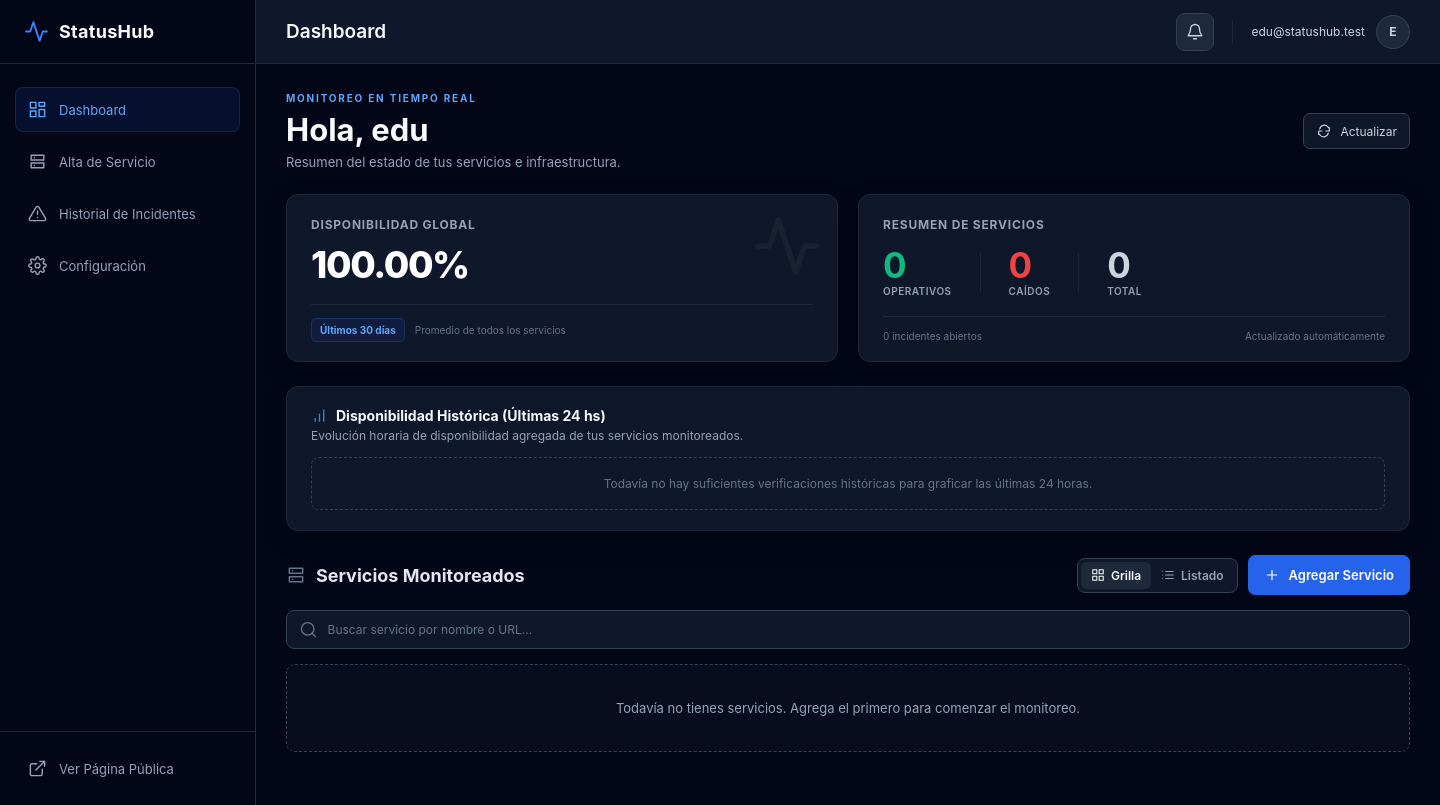
Test: Configuración — Página pública obligatoria, preferencias, cambio de contraseña y baja de cuenta › exige obligatoriamente el nombre de organización al intentar habilitar la página pública
The image size is (1440, 805).
Click the button "Configuración" at (128, 266), box [15, 243, 240, 288]
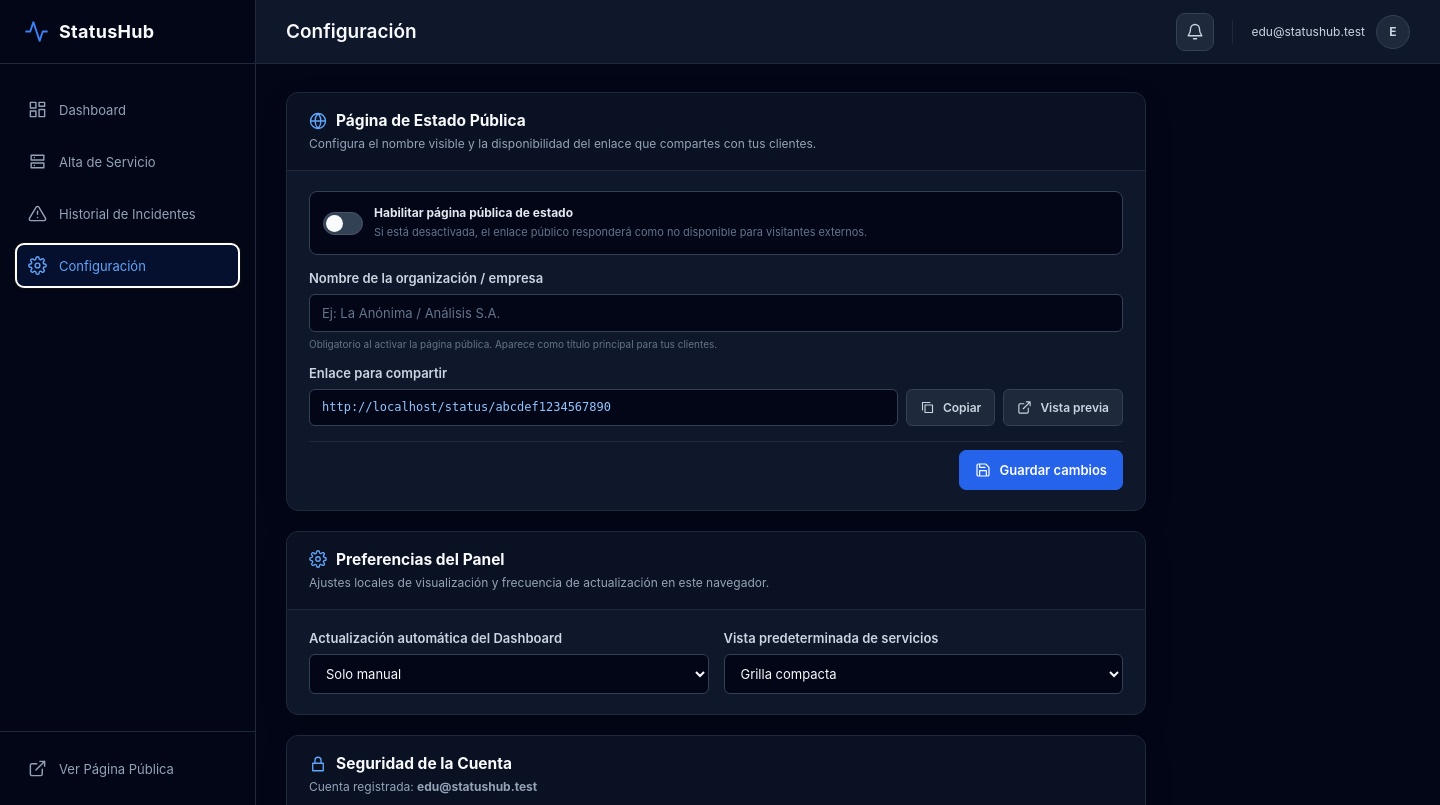
Expected: the heading "Página de Estado Pública" is shown, [309, 111, 526, 130]
Click the checkbox labelled "Habilitar página pública de estado" at (343, 223), box [323, 212, 363, 235]
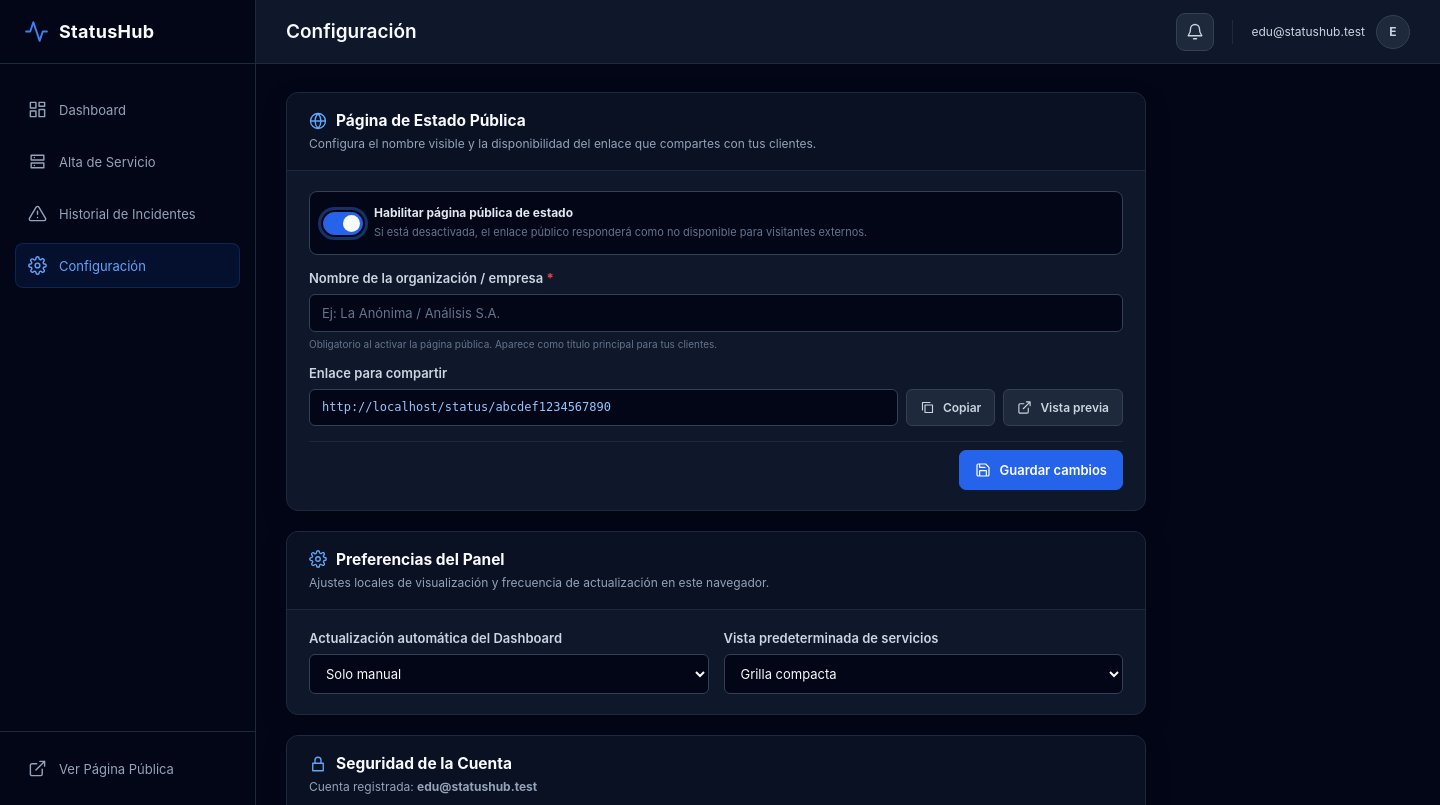
Click the button "Guardar cambios" at (1041, 470), box [958, 450, 1123, 490]
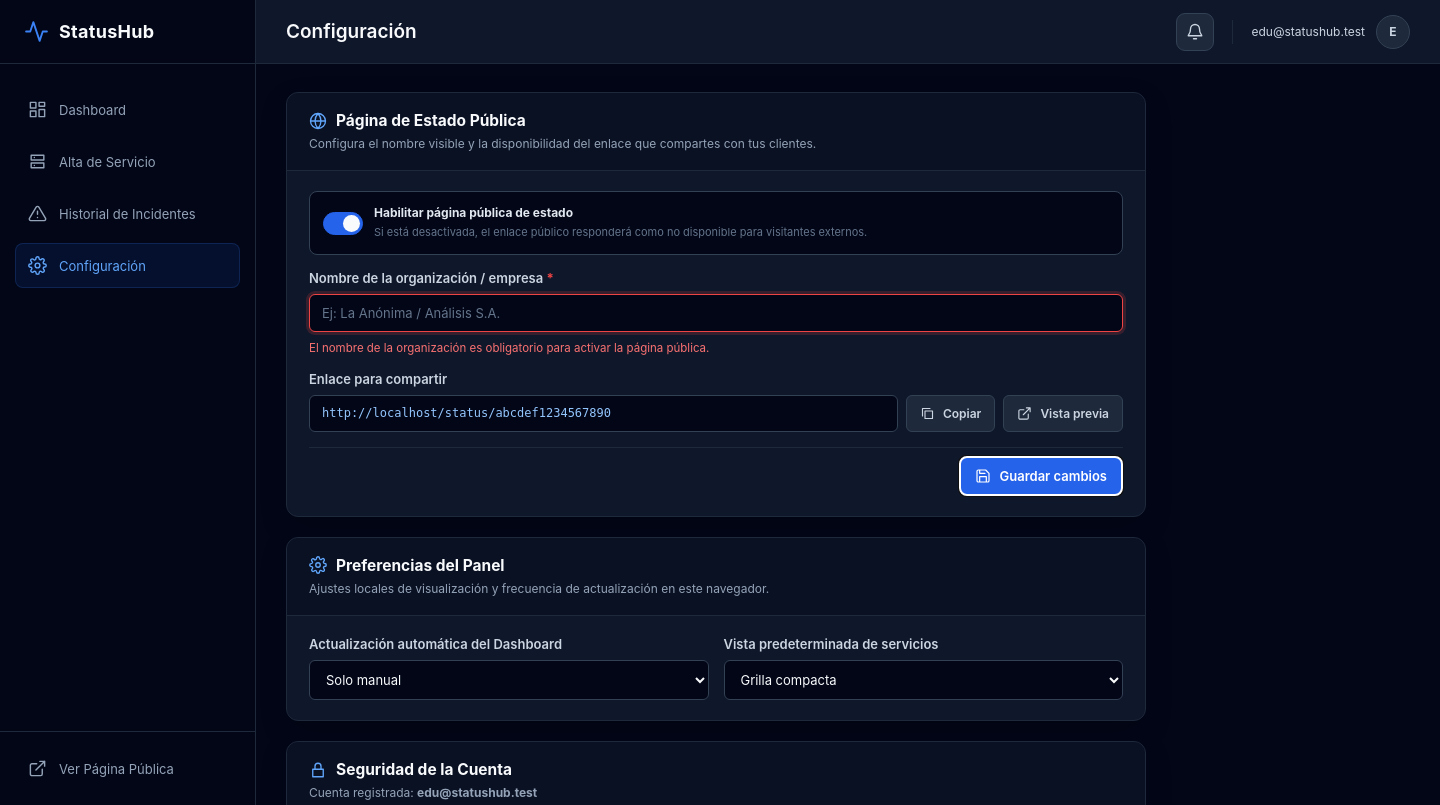
Expected: the text "El nombre de la organización es obligatorio para activar la página pública." is shown, [309, 341, 709, 355]
Type "Análisis S.A." into the field labelled "Nombre de la organización / empresa *" at (716, 313), box [309, 294, 1123, 332]
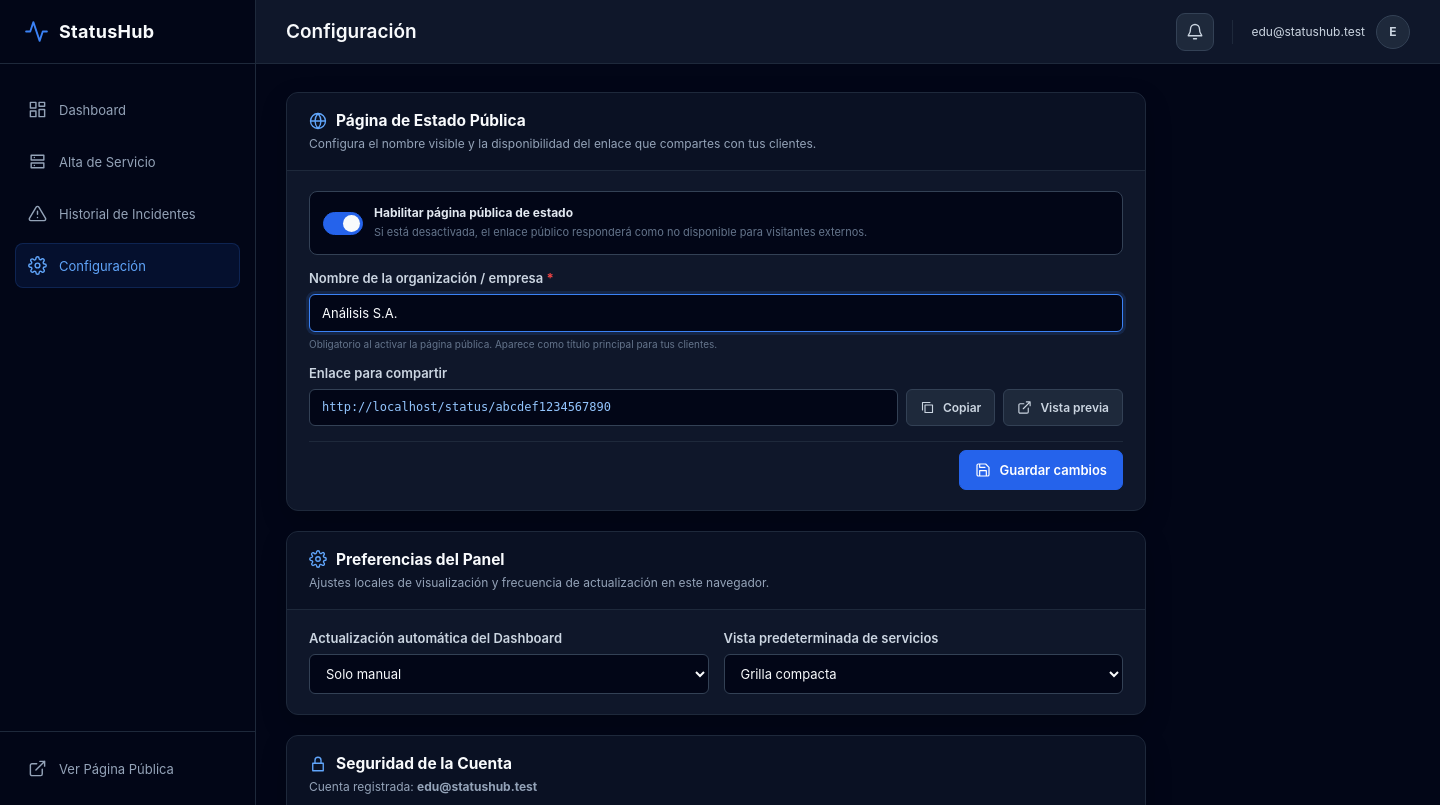
Click the button "Guardar cambios" at (1041, 470), box [958, 450, 1123, 490]
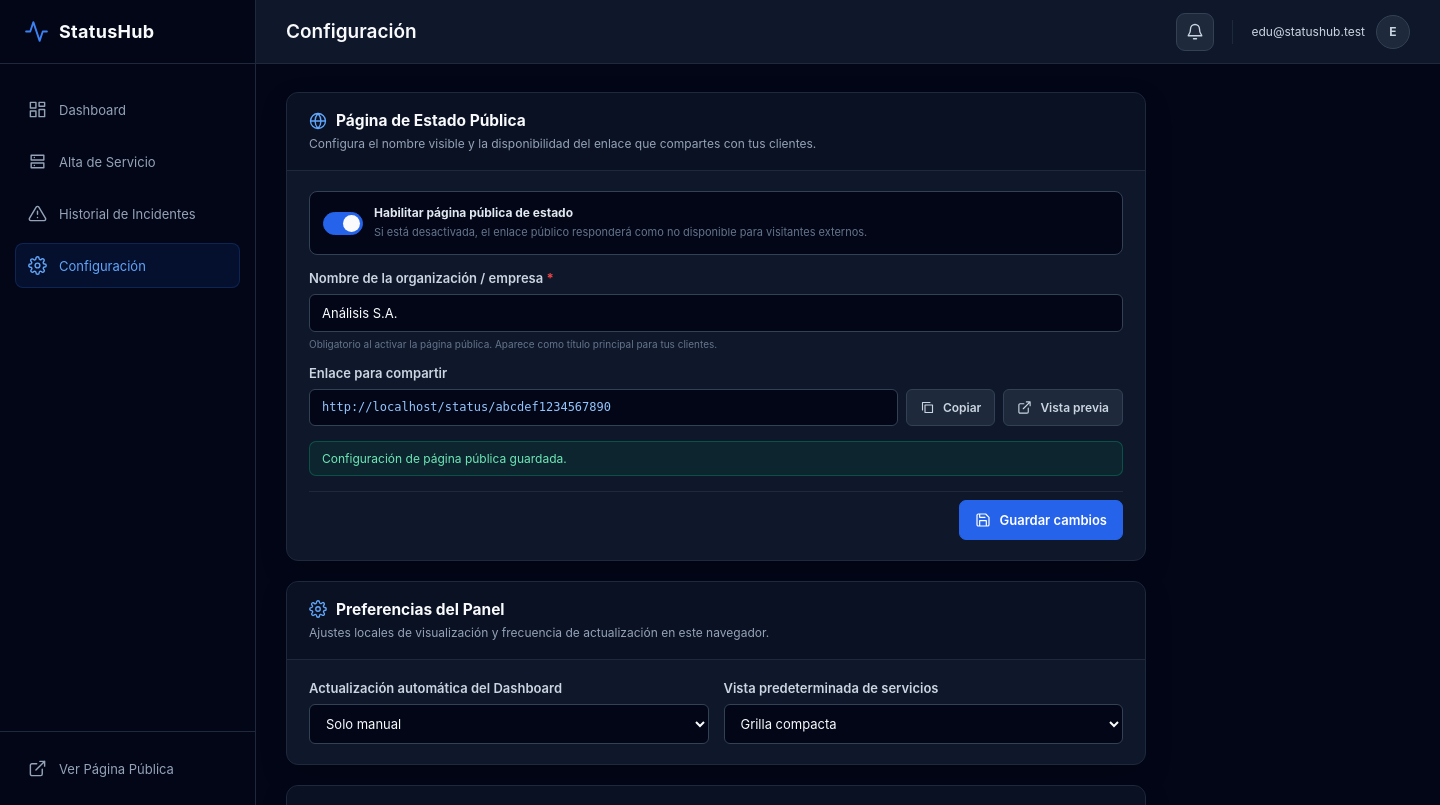
Expected: the text "Configuración de página pública guardada." is shown, [309, 441, 1123, 476]
